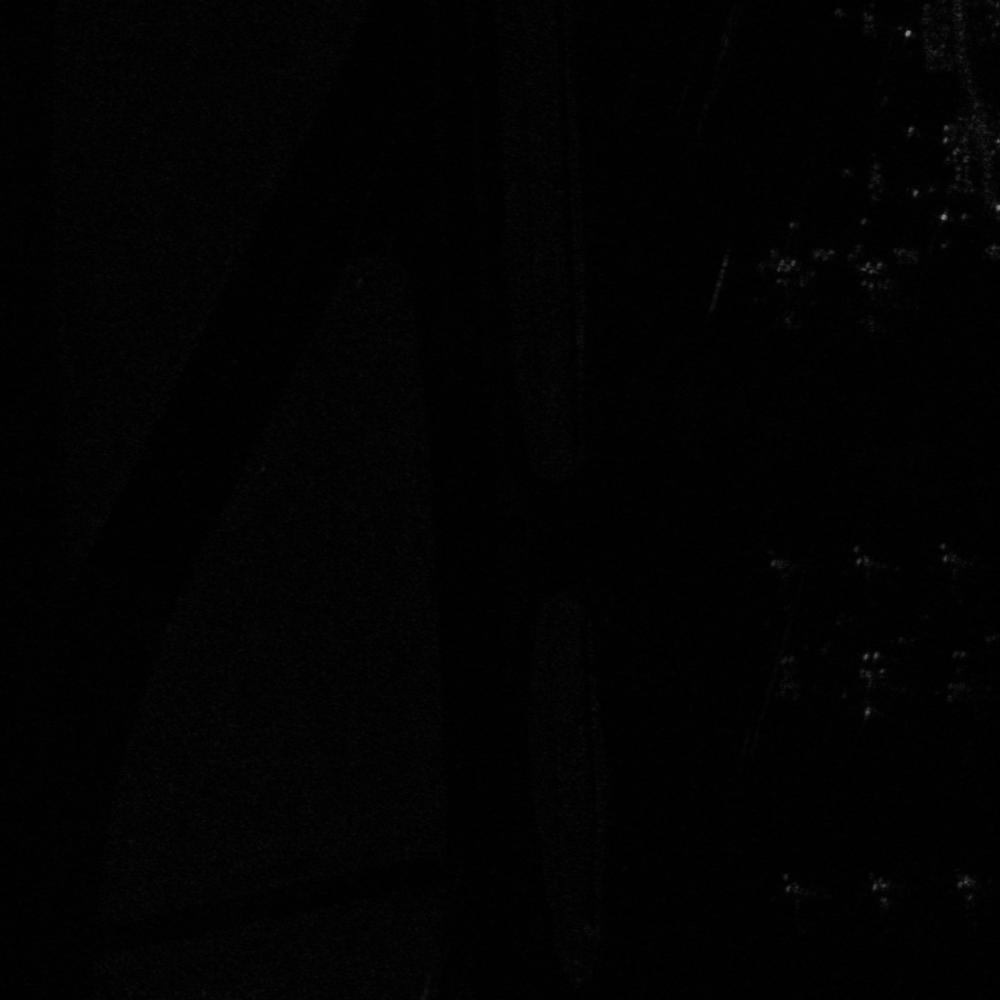A220: (842, 869, 922, 924)
A320/321: (744, 251, 823, 334), (933, 866, 999, 924)
ARJ21: (753, 870, 835, 938), (752, 652, 821, 709)
Boeing737: (828, 251, 931, 341), (830, 642, 911, 727)
other: (916, 541, 983, 607), (744, 547, 812, 611), (836, 545, 904, 597)
